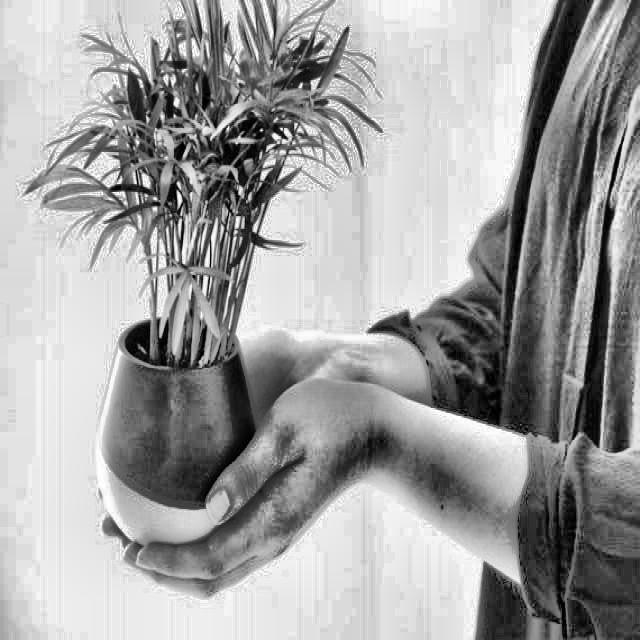plants: (79, 0, 278, 512)
